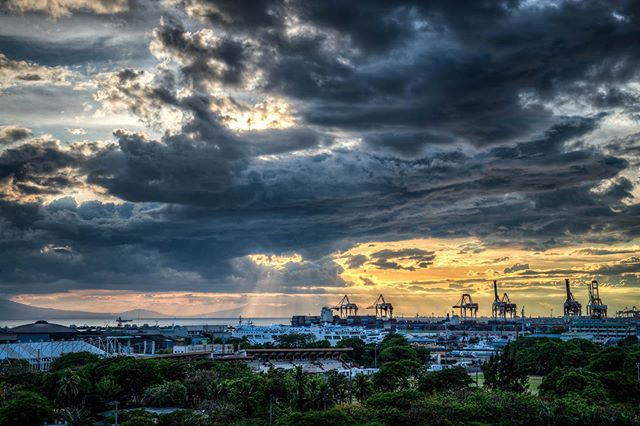crane: (487, 275, 516, 319), (583, 276, 609, 317), (363, 290, 397, 319), (324, 291, 358, 320), (450, 291, 479, 320), (563, 277, 583, 317)
sky: (1, 1, 633, 292)
vegetation: (1, 352, 624, 426)
